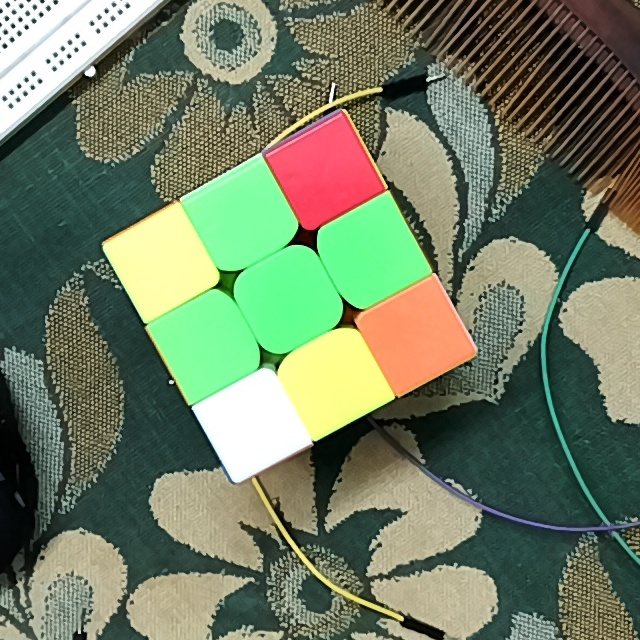tile: (335, 223, 403, 286), (172, 315, 239, 377), (289, 143, 357, 203), (257, 270, 321, 333), (209, 188, 274, 250), (128, 235, 192, 295), (387, 306, 450, 366), (300, 351, 366, 408), (219, 395, 281, 455)
